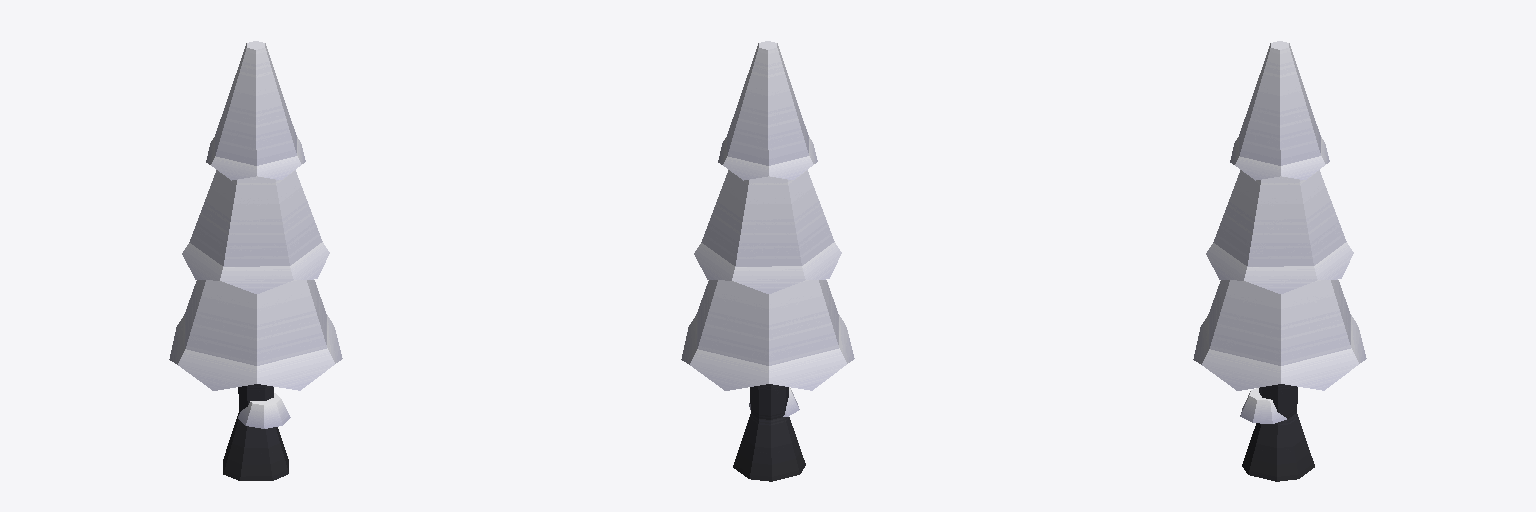
The picture shows the model from 3 angles: view 1: azimuth 30°, elevation 25°; view 2: azimuth 150°, elevation 25°; view 3: azimuth 270°, elevation 25°; orthographic projection.
Visible parts, largest first — view 1: tree.043; view 2: tree.043; view 3: tree.043.
Part boxes in pixels (x1,y1,x2,y2): tree.043: (169,41,342,480); tree.043: (681,41,854,481); tree.043: (1193,41,1366,481).
Bounding box in the file's own units: 1.36 × 3.47 × 1.3.
Materials: 1 (1 with a texture image).